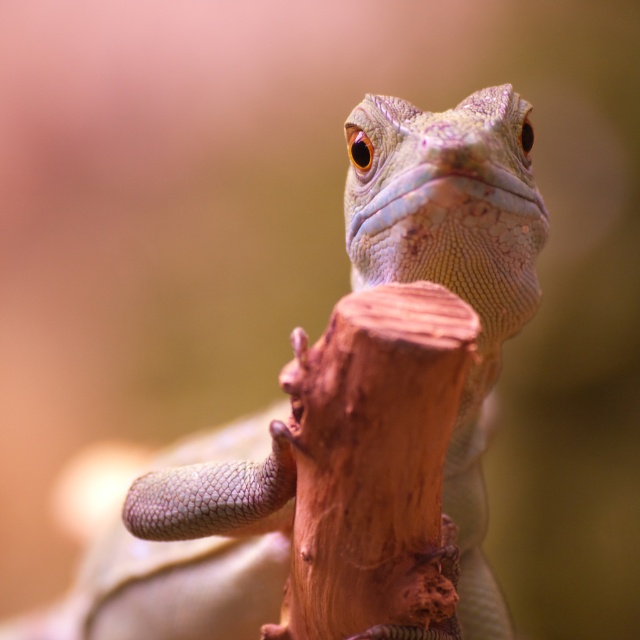Lizard: (72, 81, 547, 637)
